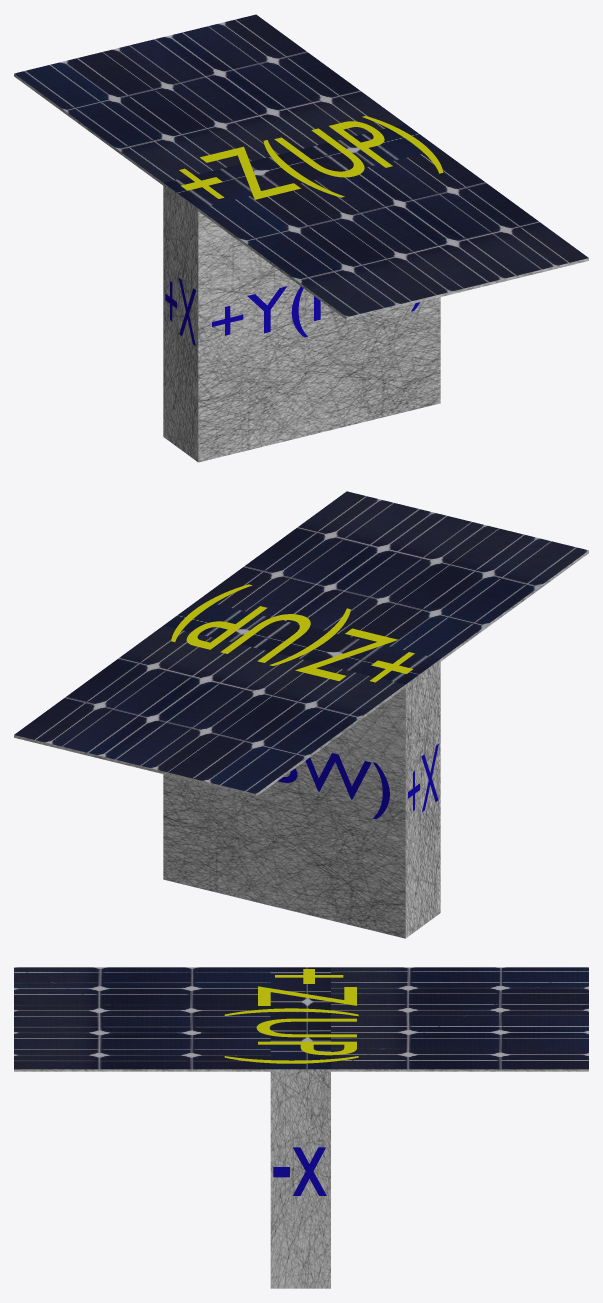
3 renders of one model, top to bottom at view 1: azimuth 30°, elevation 25°; view 2: azimuth 150°, elevation 25°; view 3: azimuth 270°, elevation 25°, orthographic. The views are drawn at different scales.
Visible parts, largest first — view 1: SputnikS; view 2: SputnikS; view 3: SputnikS.
Boxes of the visible parts, box(x1,y1,x2,y2) form: SputnikS: box(14, 14, 588, 462); SputnikS: box(14, 491, 588, 938); SputnikS: box(14, 967, 588, 1288).
Bounding box in the file's own units: 0.91 × 0.91 × 2.14.
